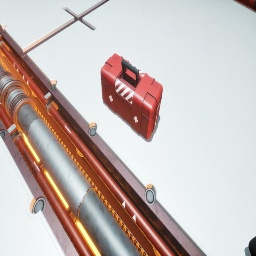FireExtinguisher ]: (235, 0, 256, 12), (248, 236, 256, 256)
FirstAidBox ,: (101, 53, 163, 139)
